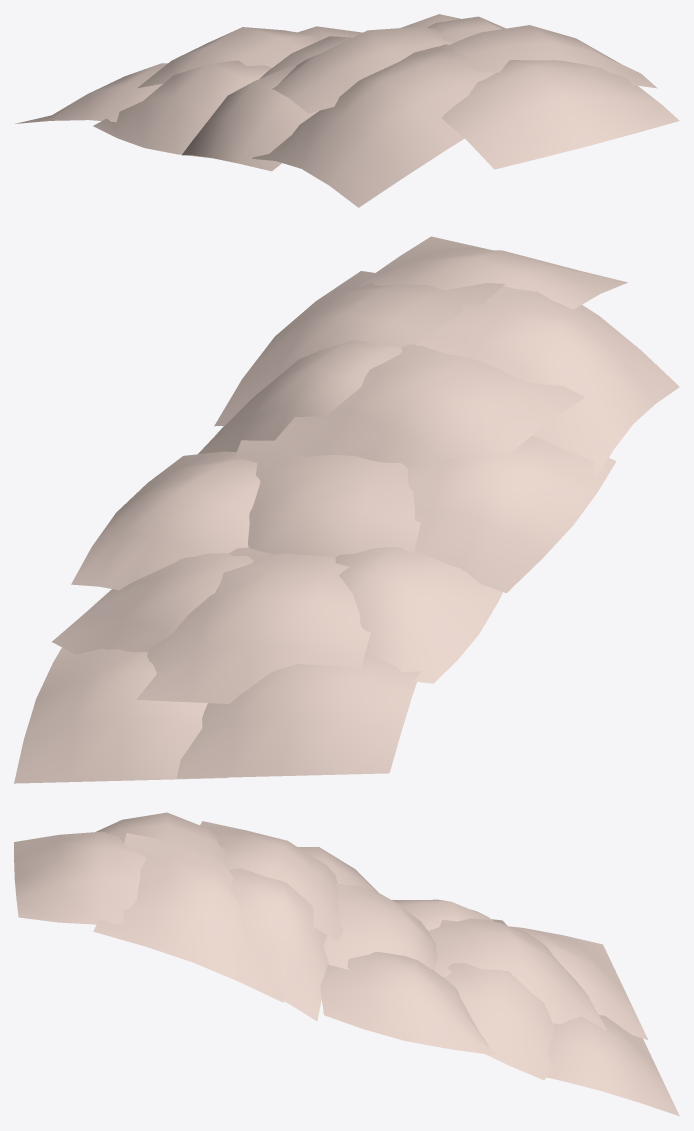
Rendered from Ground2.fbx.
3 renders of one model, top to bottom at view 1: azimuth 30°, elevation 25°; view 2: azimuth 150°, elevation 25°; view 3: azimuth 270°, elevation 25°, orthographic. The views are drawn at different scales.
Parts seen in each view (by area): view 1: Plane.002, Plane, Plane.009, Plane.005, Plane.004, Plane.003, Plane.013, Plane.011, Plane.007, Plane.008, Plane.006, Plane.010; view 2: Plane.013, Plane.004, Plane.011, Plane.002, Plane.005, Plane.012, Plane.008, Plane.010, Plane.009, Plane.003, Plane.006, Plane.007 (+1 smaller); view 3: Plane.003, Plane.010, Plane, Plane.007, Plane.013, Plane.012, Plane.006, Plane.004, Plane.008, Plane.011, Plane.002, Plane.009 (+1 smaller).
Part boxes in pixels (x1,y1,x2,y2): Plane.002: (252,44,495,207); Plane: (441,60,679,169); Plane.009: (93,60,271,158); Plane.005: (182,65,318,171); Plane.004: (272,26,454,113); Plane.003: (442,25,657,88); Plane.013: (137,27,320,88); Plane.011: (15,63,167,123); Plane.007: (427,16,505,42); Plane.008: (260,36,351,78); Plane.006: (297,26,362,40); Plane.010: (401,14,460,27); Plane.013: (137,547,370,703); Plane.004: (274,344,584,468); Plane.011: (176,657,420,778); Plane.002: (416,286,679,477); Plane.005: (408,435,616,593); Plane.012: (14,647,226,783); Plane.008: (234,440,420,557); Plane.010: (71,451,260,590); Plane.009: (335,547,502,683); Plane.003: (214,271,505,426); Plane.006: (52,553,253,654); Plane.007: (198,340,401,454); Plane.003: (93,833,283,1002); Plane.010: (320,952,498,1055); Plane: (14,831,145,924); Plane.007: (229,868,328,1021); Plane.013: (428,918,606,1030); Plane.012: (546,1015,679,1116); Plane.006: (445,963,554,1079); Plane.004: (200,821,342,940); Plane.008: (323,883,437,969); Plane.011: (509,926,647,1039); Plane.002: (96,812,224,862); Plane.009: (392,899,507,930).
Size of the model in its own units: 4.11 by 7.45 by 2.84.
